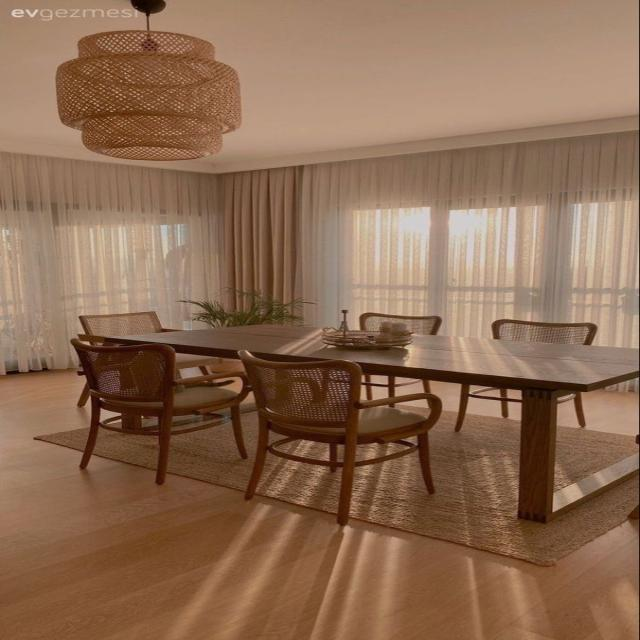obstacle: (97, 323, 638, 523), (237, 349, 442, 525), (69, 336, 251, 485), (452, 318, 596, 432), (76, 310, 223, 419), (357, 312, 441, 408)
